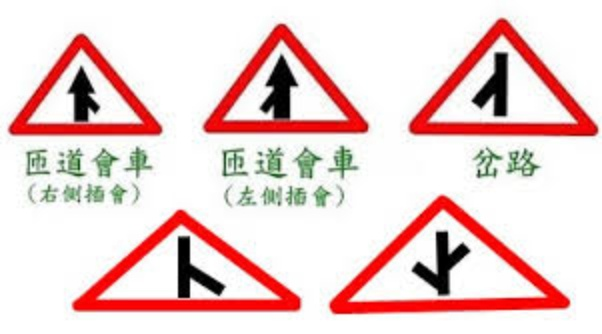Fork_road: (327, 185, 583, 318), (61, 200, 319, 322), (404, 7, 602, 145)
